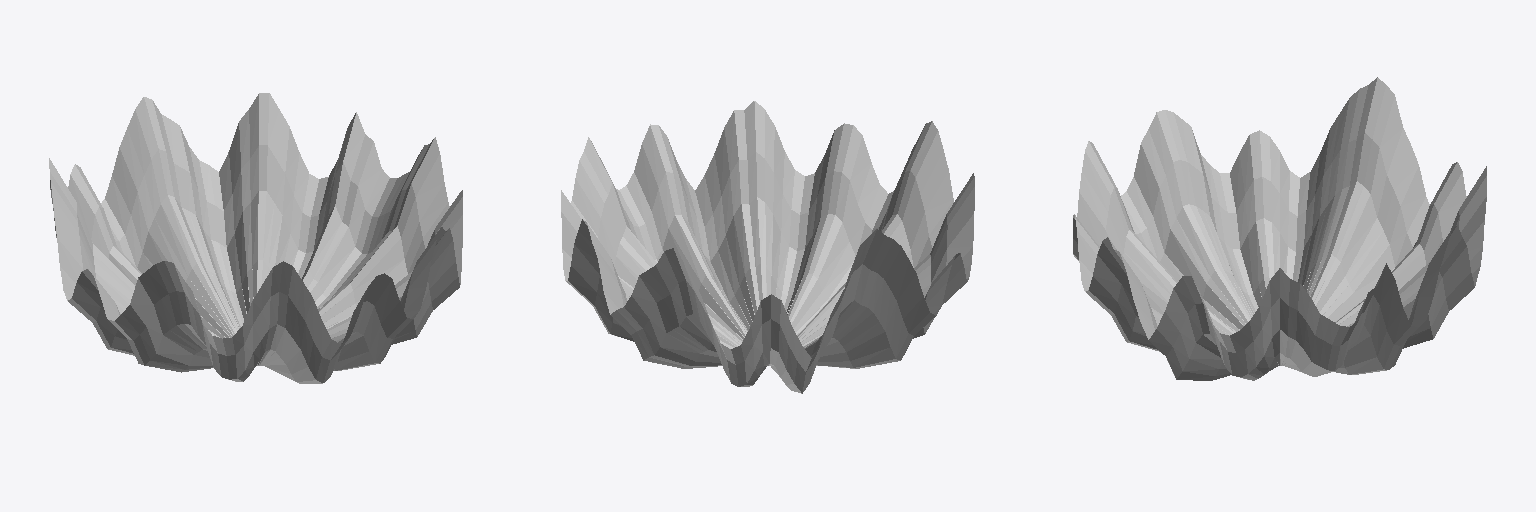
File: horizon.obj
The picture shows the model from 3 angles: view 1: azimuth 30°, elevation 25°; view 2: azimuth 150°, elevation 25°; view 3: azimuth 270°, elevation 25°; orthographic projection.
Parts seen in each view (by area): view 1: Cylinder; view 2: Cylinder; view 3: Cylinder.
Boxes of the visible parts, <box> form: Cylinder: <box>49,93,462,383</box>; Cylinder: <box>561,101,974,393</box>; Cylinder: <box>1073,77,1486,380</box>.
Bounding box in the file's own units: 200 × 108 × 200.